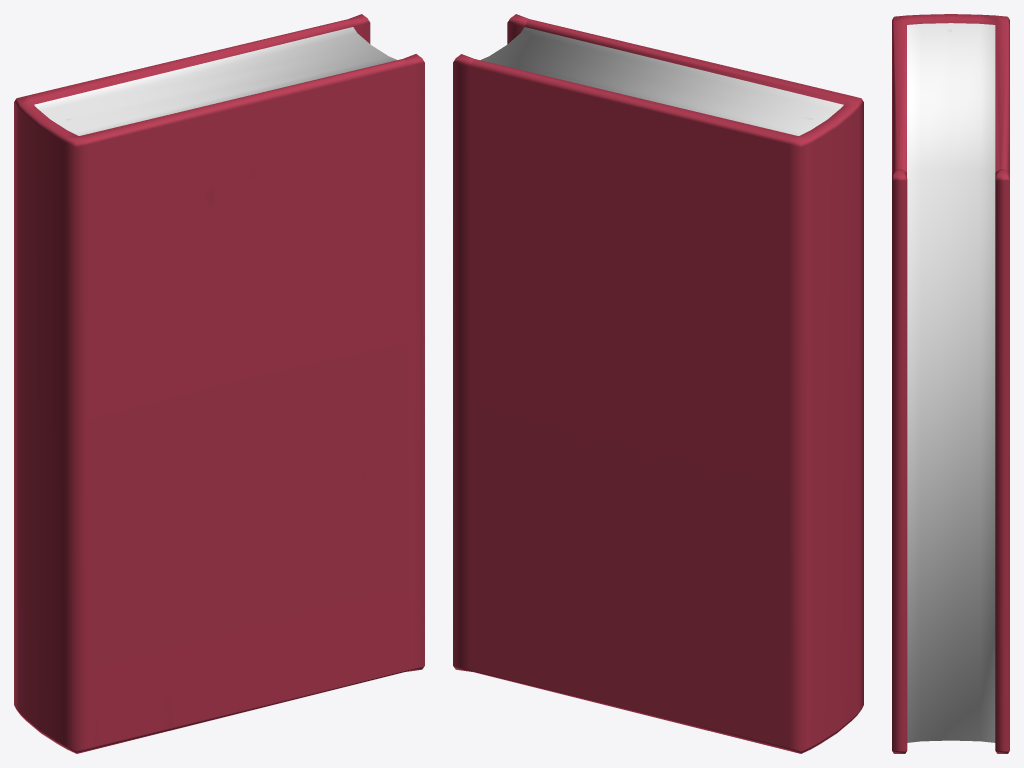
The model's file is book.fbx.
3 views of the same model, side by side, from view 1: azimuth 30°, elevation 25°; view 2: azimuth 150°, elevation 25°; view 3: azimuth 270°, elevation 25° (orthographic). The views are drawn at different scales.
Parts seen in each view (by area): view 1: book; view 2: book; view 3: book.
Boxes of the visible parts, bbox=[...] form: book: bbox=[14, 14, 424, 753]; book: bbox=[453, 14, 863, 753]; book: bbox=[892, 14, 1009, 753].
Bounding box in the file's own units: 20.35 × 33.53 × 6.19.
